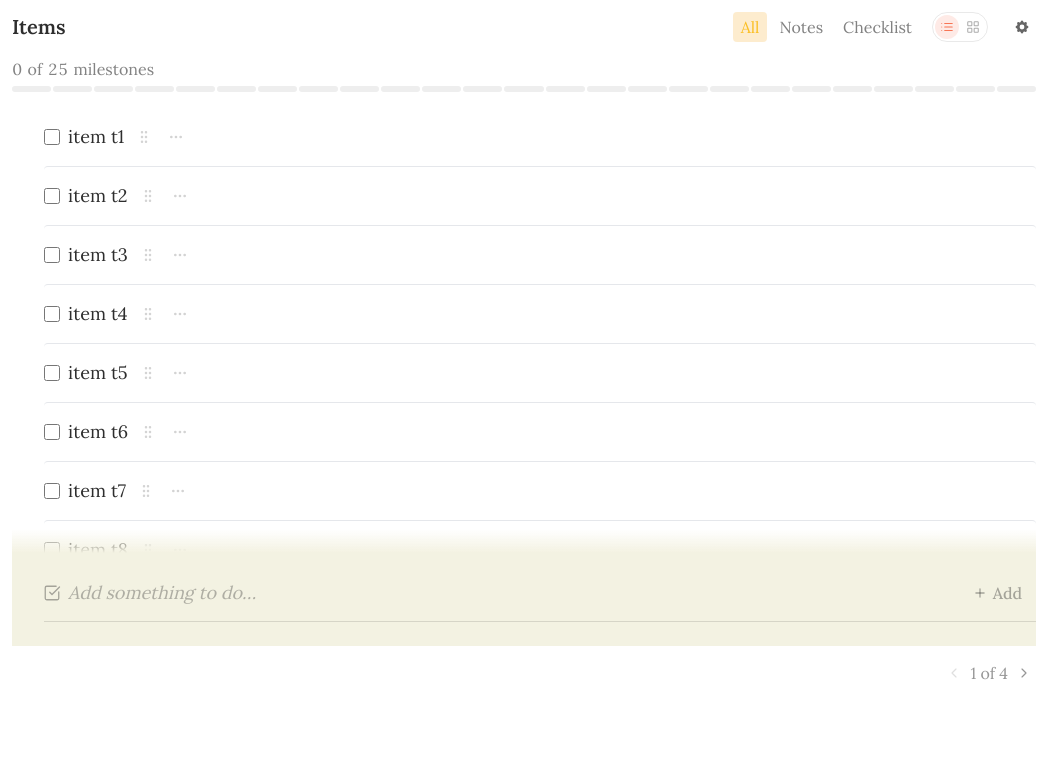
Scenario: Todo paging › should return to page 1 when the type filter changes
Expected: the text "item t1" is shown, x1=68 y1=124 x2=124 y2=150
Click the button named "Next page" at (1024, 673), box x1=1016 y1=665 x2=1032 y2=681
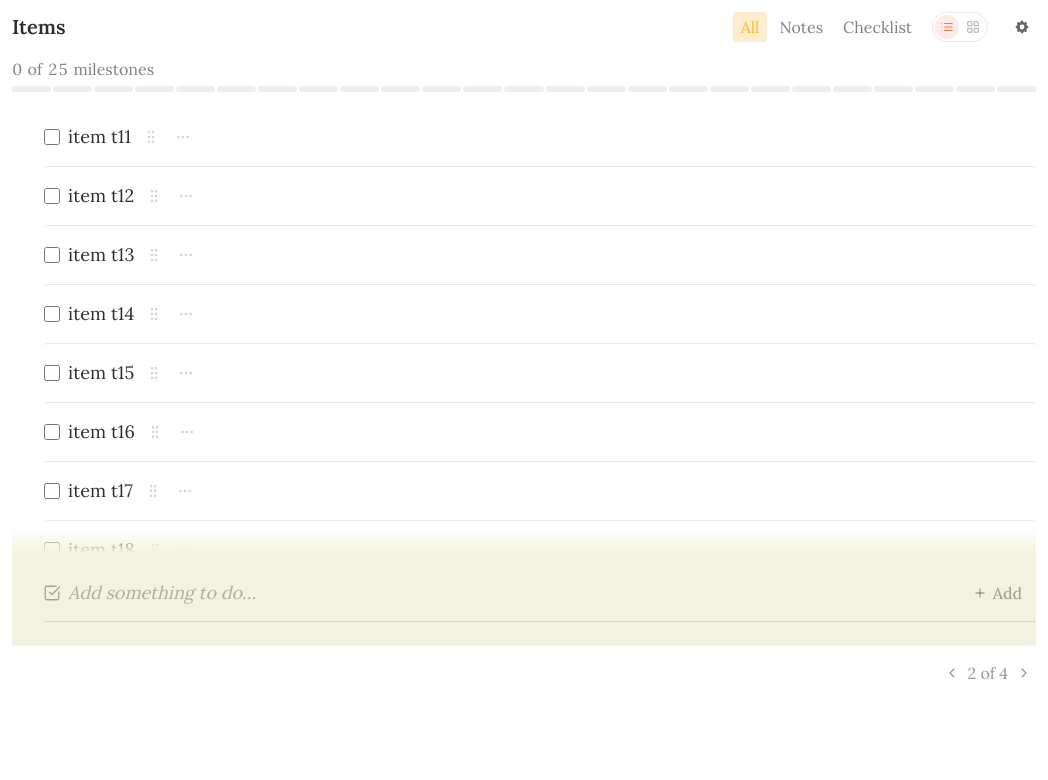
Now the text with test id "page-counter" reads "2 of 4", box x1=968 y1=662 x2=1008 y2=684
Click the button "Notes" at (801, 27), box x1=771 y1=12 x2=831 y2=42
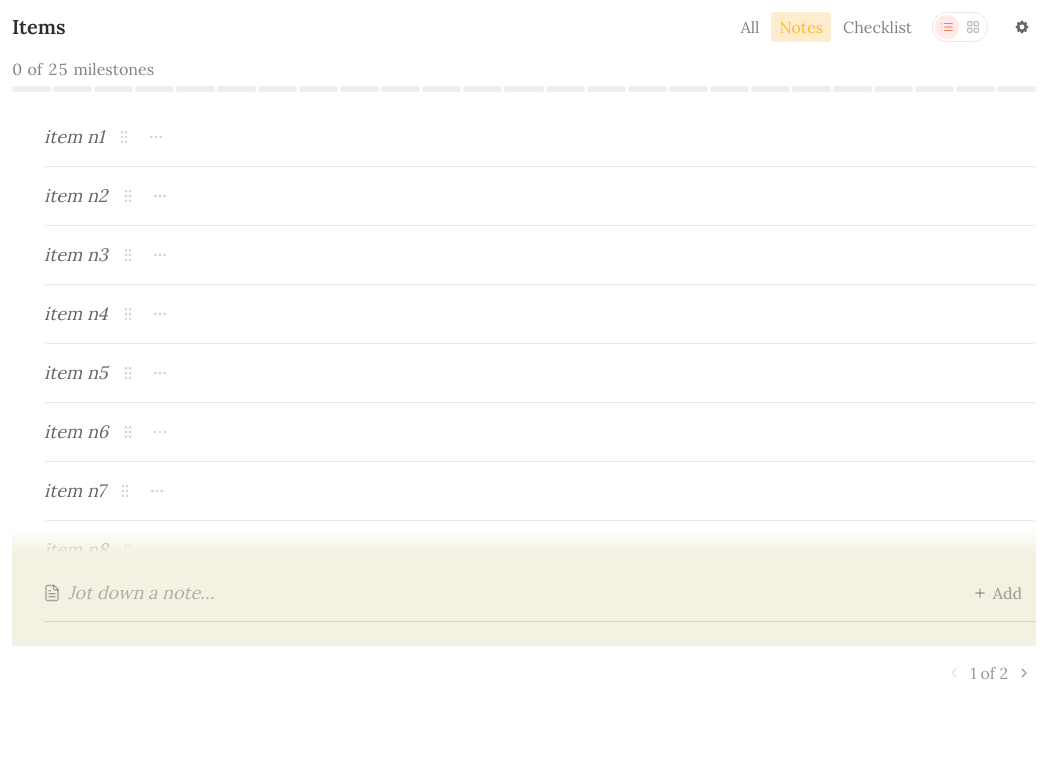
Now the text with test id "page-counter" reads "1 of 2", box x1=970 y1=662 x2=1008 y2=684
Now the text "item n1" is shown, box x1=44 y1=124 x2=104 y2=150
